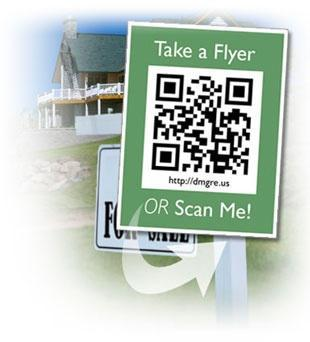Finder pattern: (150, 69, 187, 103), (221, 73, 255, 108), (147, 140, 184, 172)
